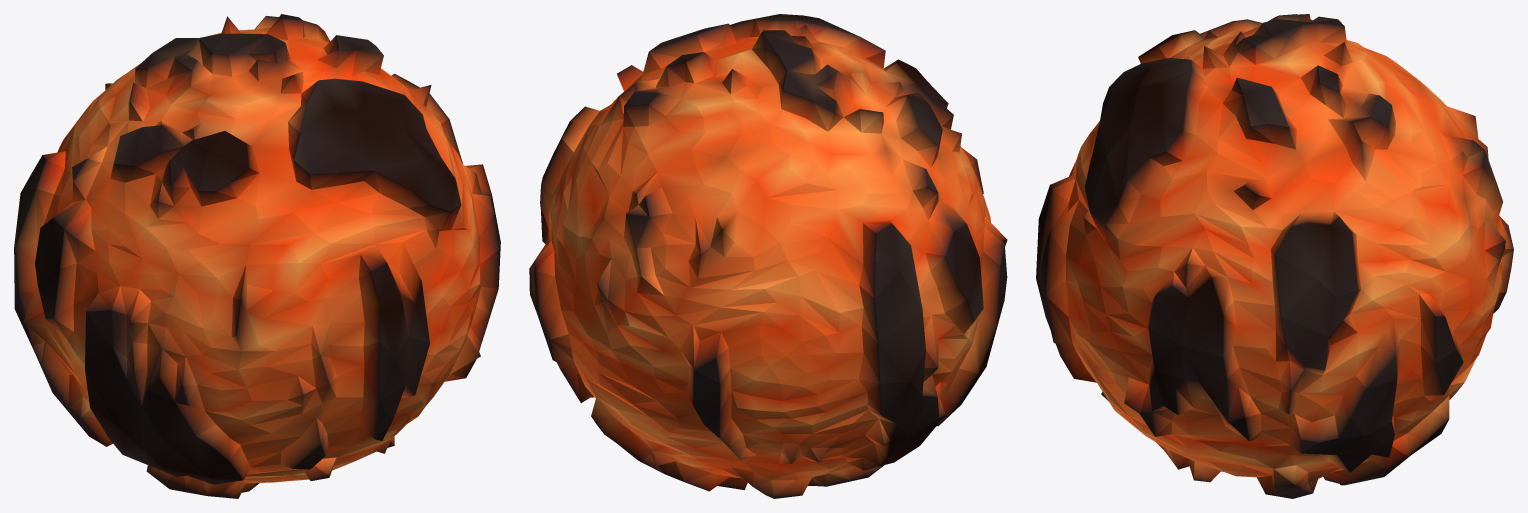
The model's file is barren_14.fbx.
3 renders of one model, left to right at view 1: azimuth 30°, elevation 25°; view 2: azimuth 150°, elevation 25°; view 3: azimuth 270°, elevation 25°, orthographic.
Parts seen in each view (by area): view 1: filecache1; view 2: filecache1; view 3: filecache1.
Part boxes in pixels (x1,y1,x2,y2): filecache1: (14,14,500,498); filecache1: (529,14,1007,498); filecache1: (1036,14,1513,498).
Bounding box in the file's own units: 2.16 × 2.19 × 2.15.
